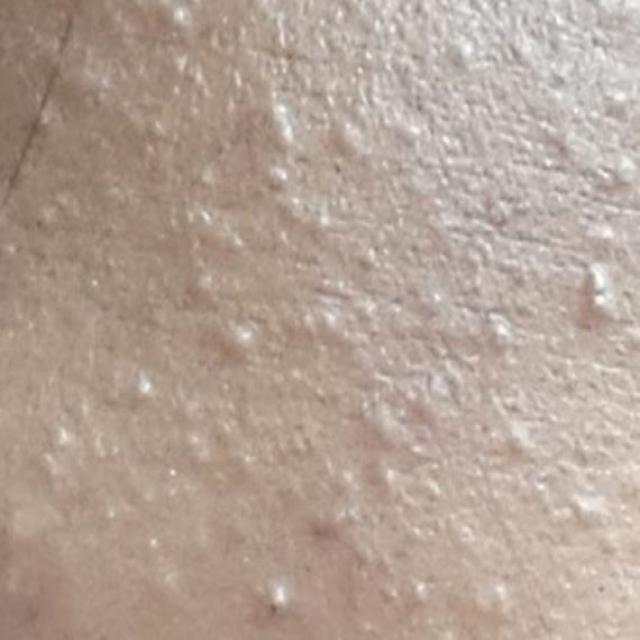fungal: (12, 10, 617, 633)
